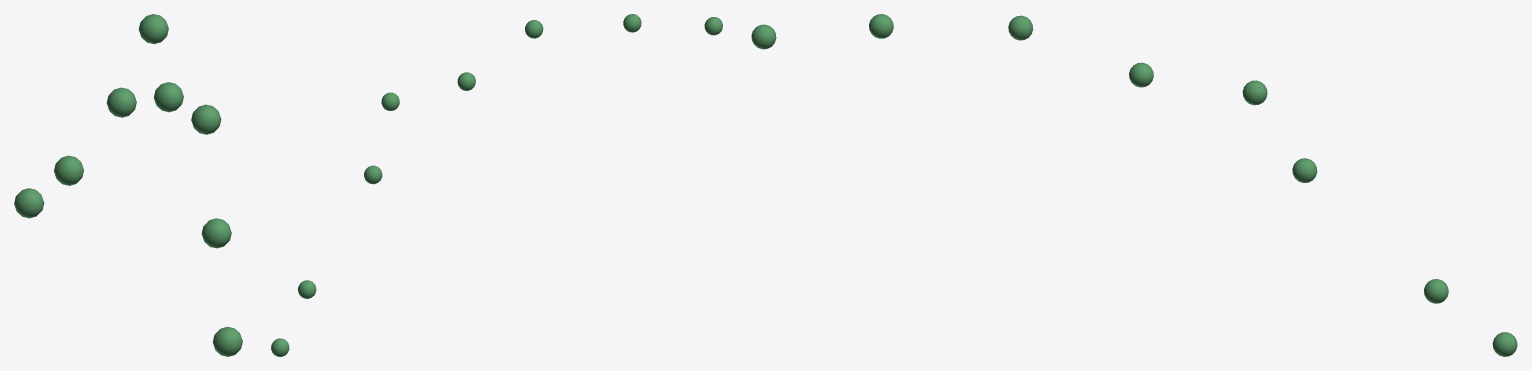
The picture shows the model from 3 angles, left to right: view 1: azimuth 30°, elevation 25°; view 2: azimuth 150°, elevation 25°; view 3: azimuth 270°, elevation 25°; orthographic projection. The views are drawn at different scales.
Visible parts, largest first — view 1: 左侧髂外内侧淋巴结; view 2: 左侧髂外内侧淋巴结; view 3: 左侧髂外内侧淋巴结.
Part boxes in pixels (x1,y1,x2,y2): 左侧髂外内侧淋巴结: (14, 14, 242, 356); 左侧髂外内侧淋巴结: (271, 14, 722, 356); 左侧髂外内侧淋巴结: (751, 14, 1517, 356).
Bounding box in the file's own units: 0.0401 × 0.0493 × 0.117.
